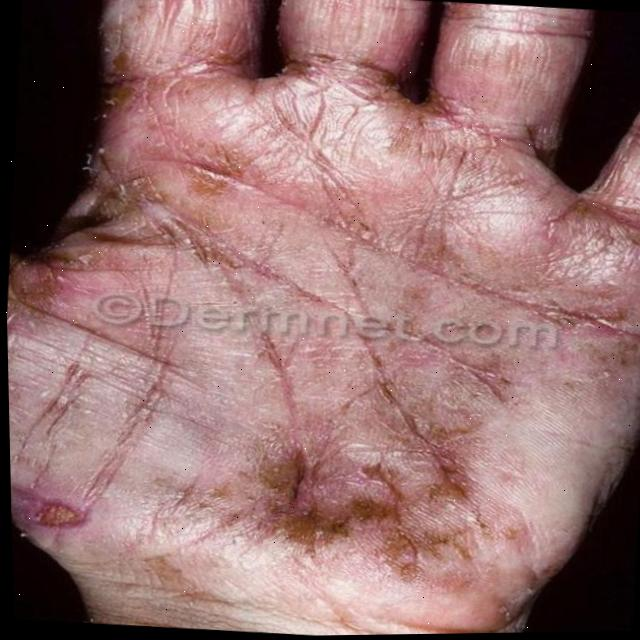Eczema: (11, 0, 599, 589)
